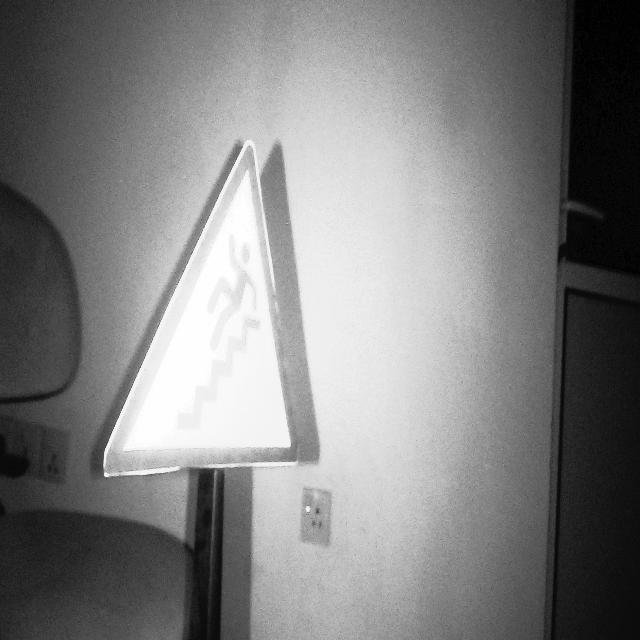Sign: (102, 137, 300, 480)
